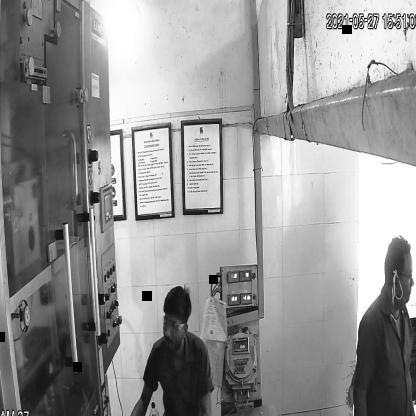goggles: (159, 308, 189, 336)
